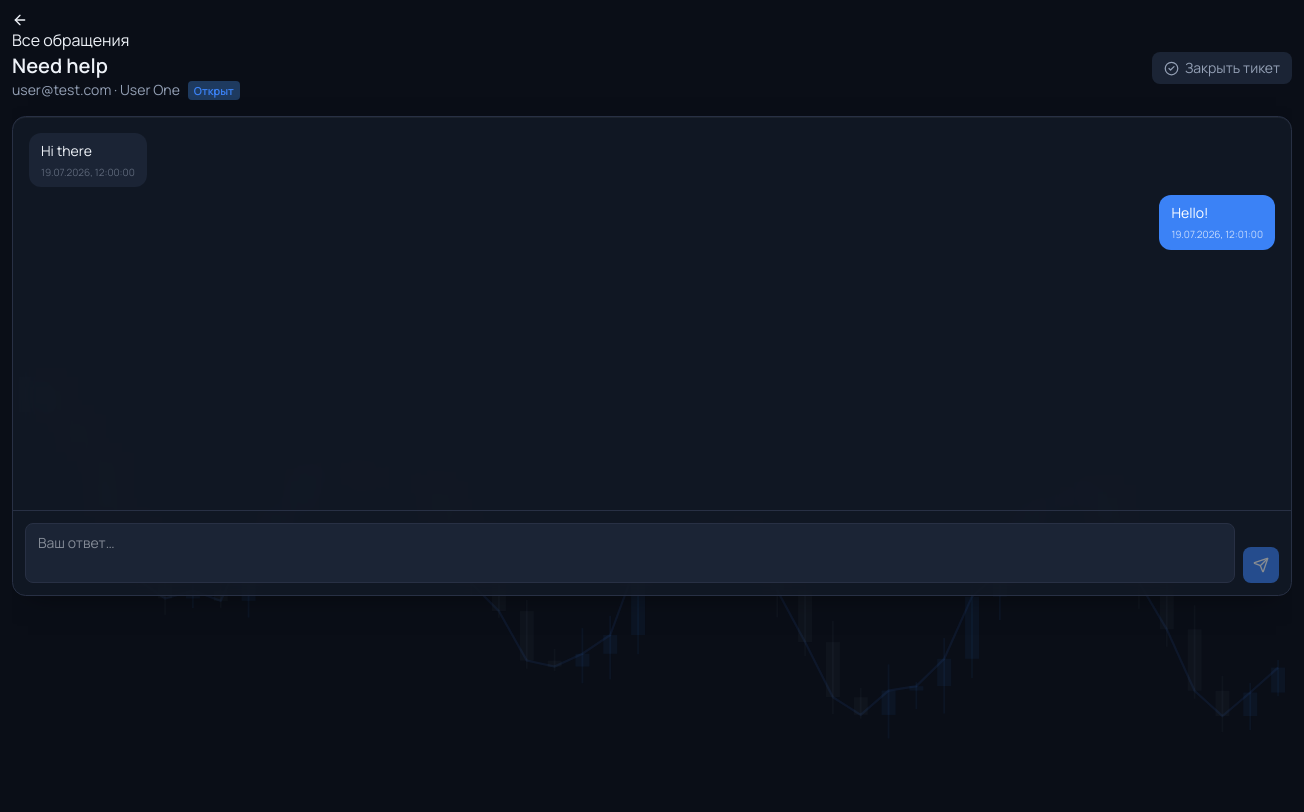
Test case: AdminSupportThread › shows error message when sending fails
Check: the heading "Need help" is shown, box [12,52,108,79]
Type "Reply text" into the text box with placeholder "Ваш ответ…" at point(630, 553), box [25,523,1235,583]
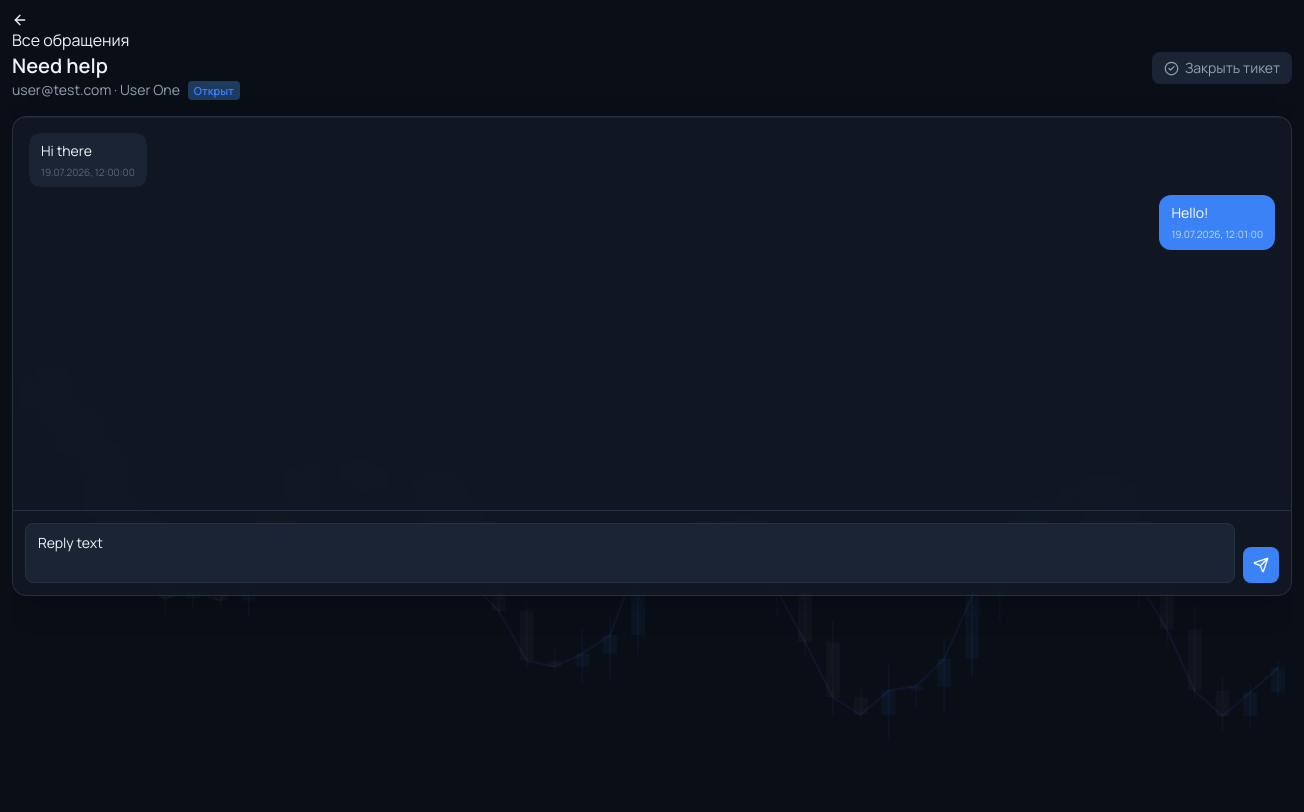
Click the button titled "Отправить" at point(1261, 565), box [1243,547,1279,583]
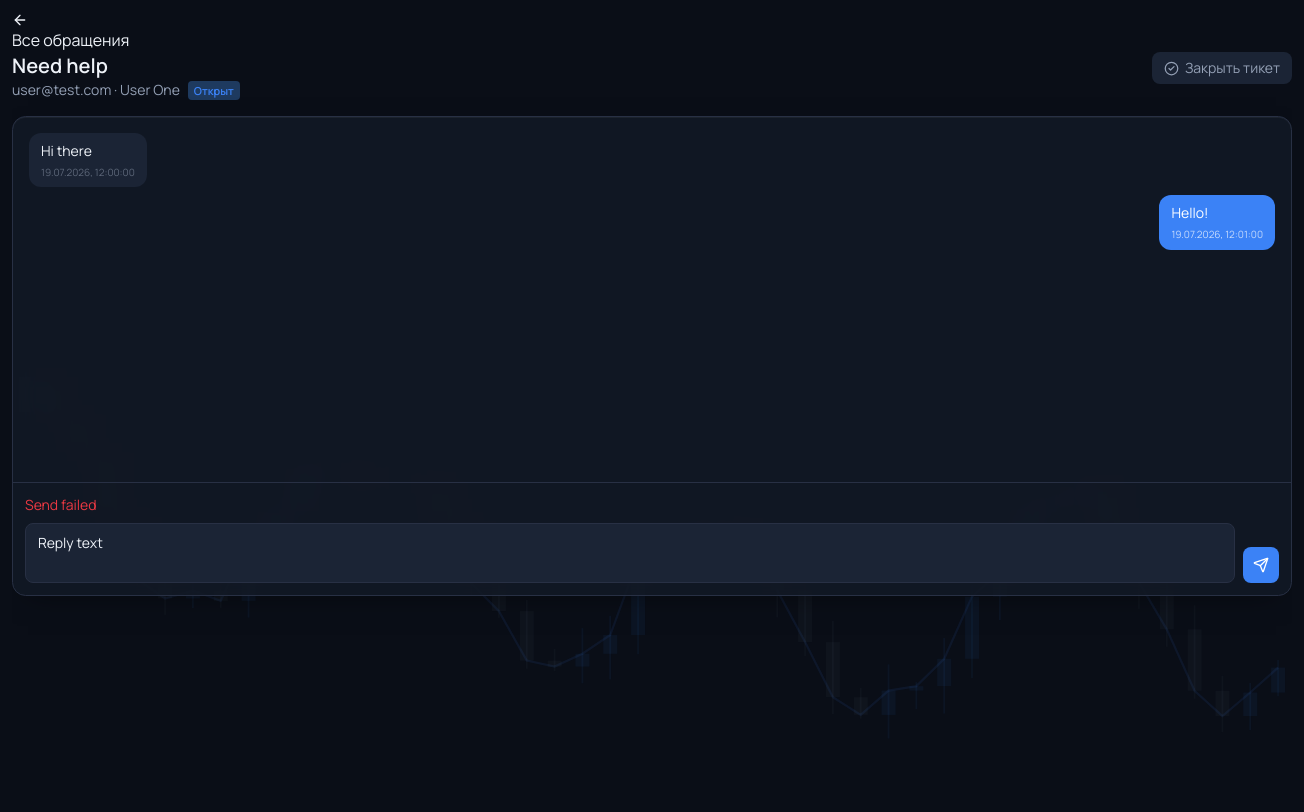
Check: the text "Send failed" is shown, box [25,495,96,514]
